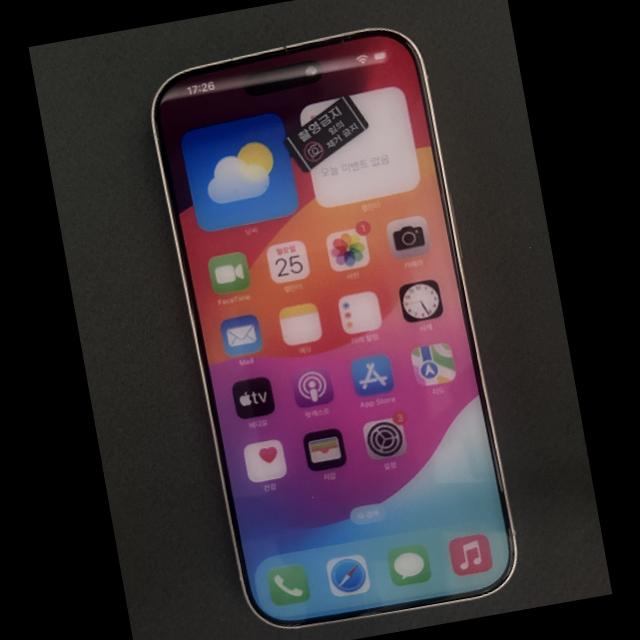lens: (306, 67, 317, 77)
phone: (149, 26, 518, 629)
sticker: (282, 94, 369, 172)
